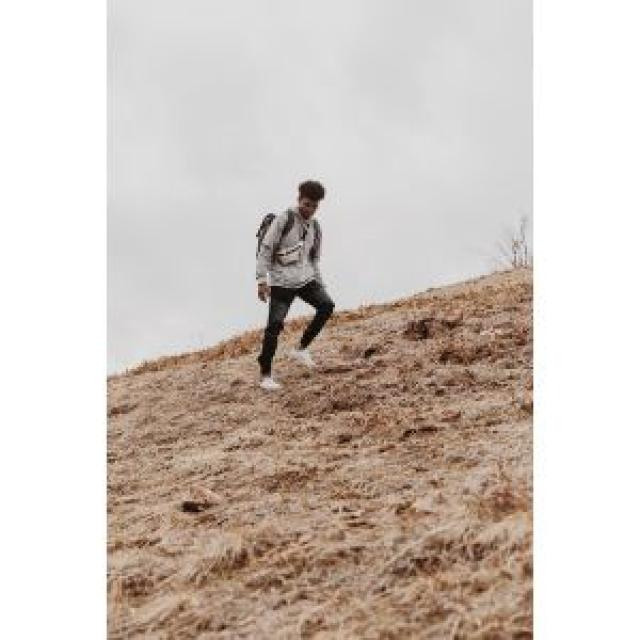nonfall: (244, 176, 358, 398)
